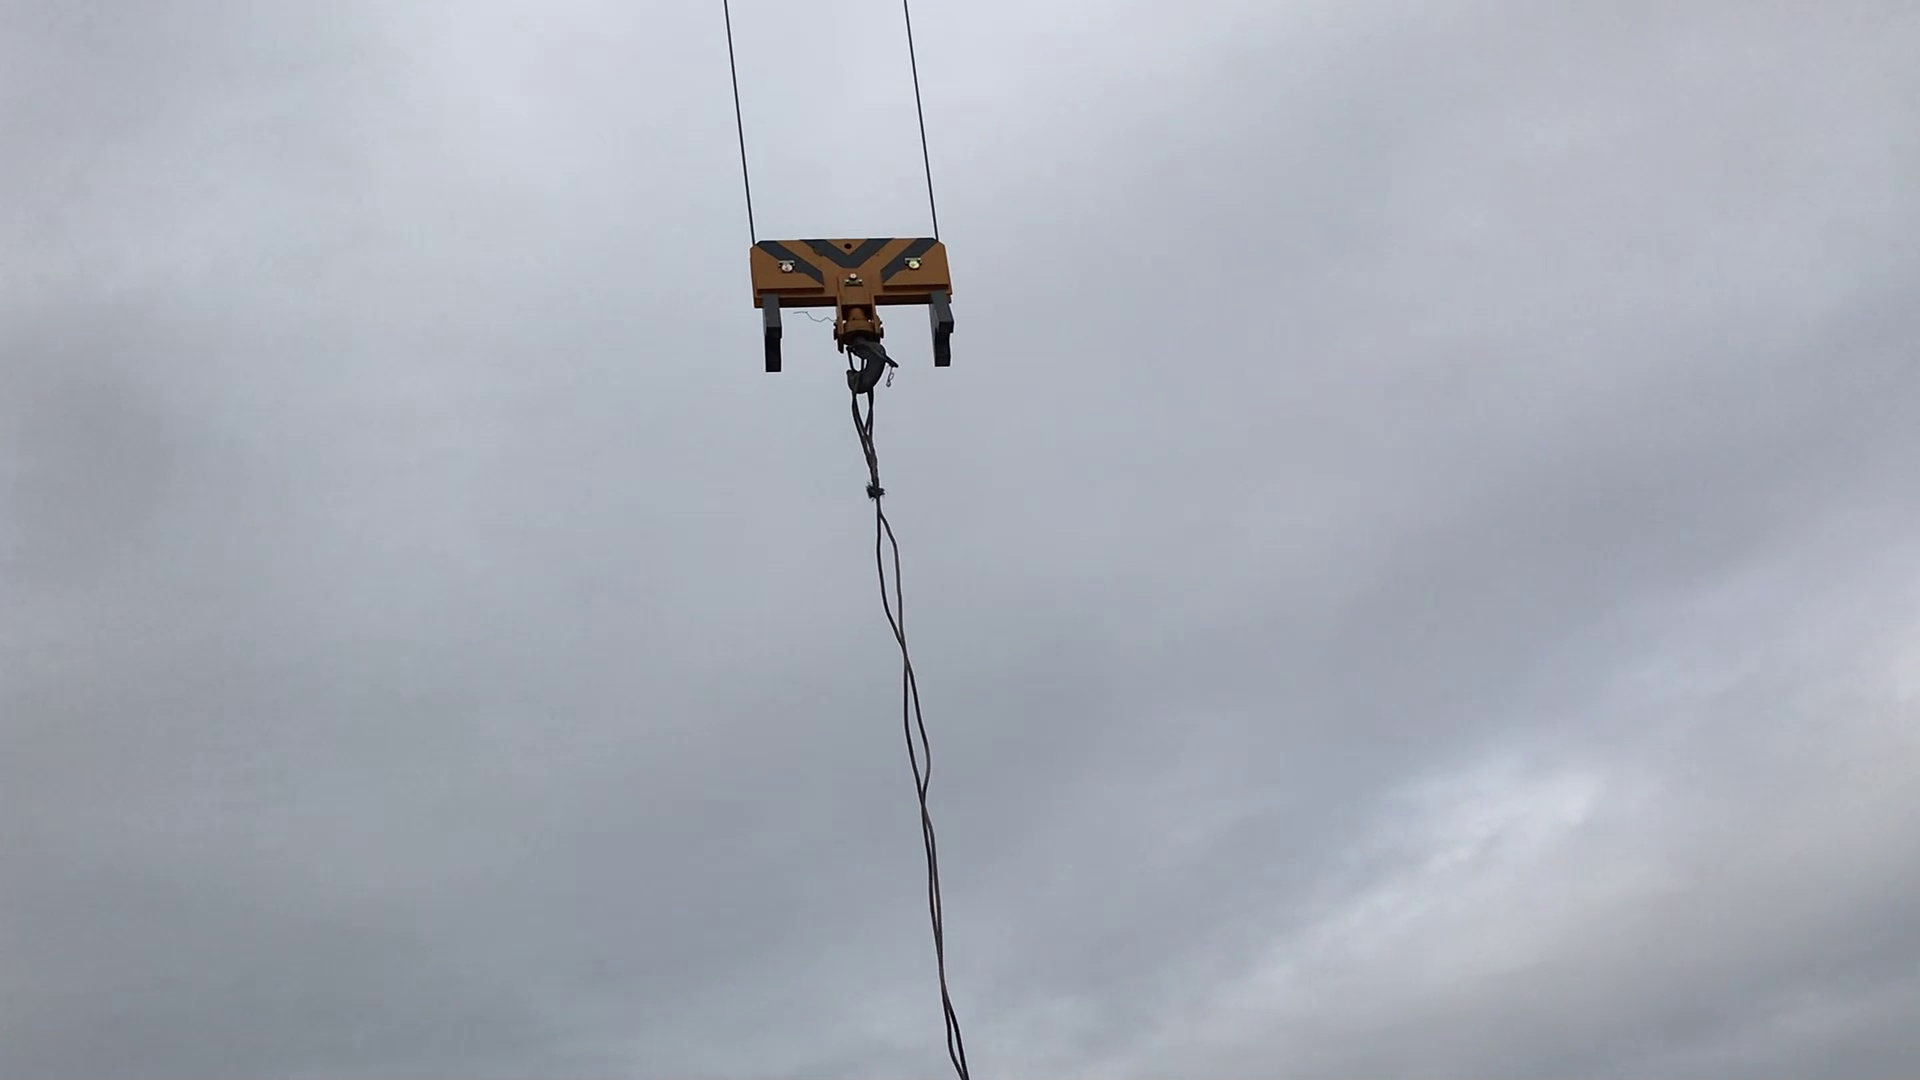hook: (735, 211, 985, 411)
